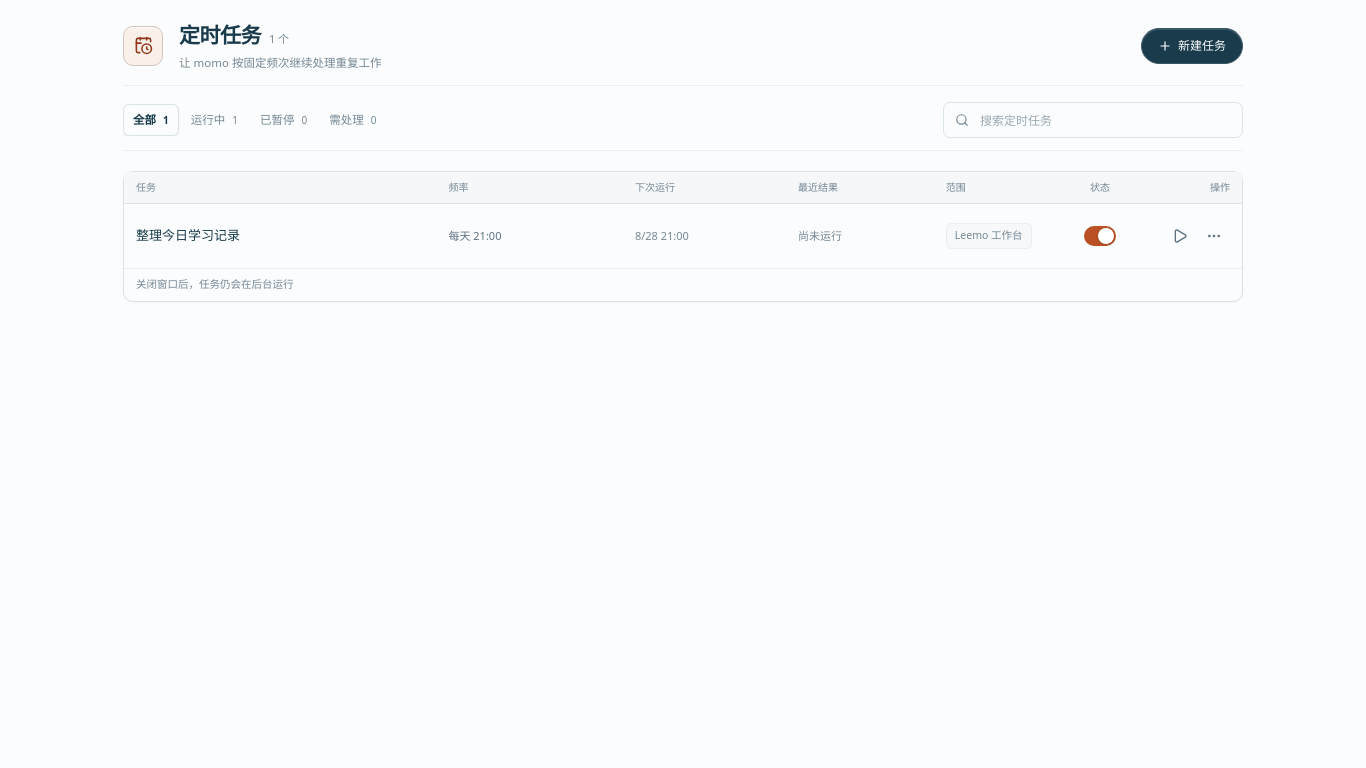
ScheduledTasksPage › keeps pause and edit on the same page instead of sending users to settings
Click the switch named "暂停 整理今日学习记录".
click(1100, 236)  # box [1084,226,1116,246]
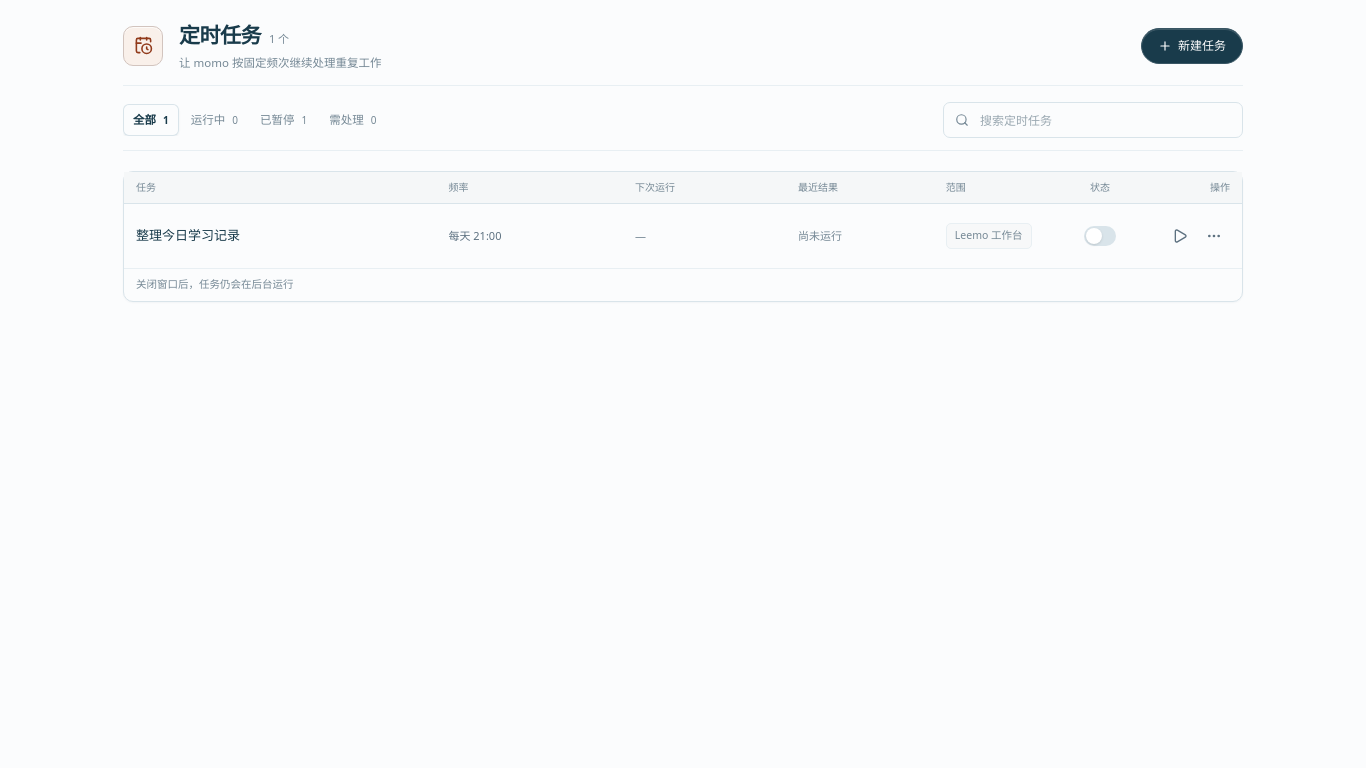
Now the switch named "继续 整理今日学习记录" is shown, box [1084,226,1116,246]
Now the tab "已暂停 1" is shown, box [250,104,317,136]
Click the button named "更多 整理今日学习记录 操作".
click(1214, 236)  # box [1198,220,1230,252]
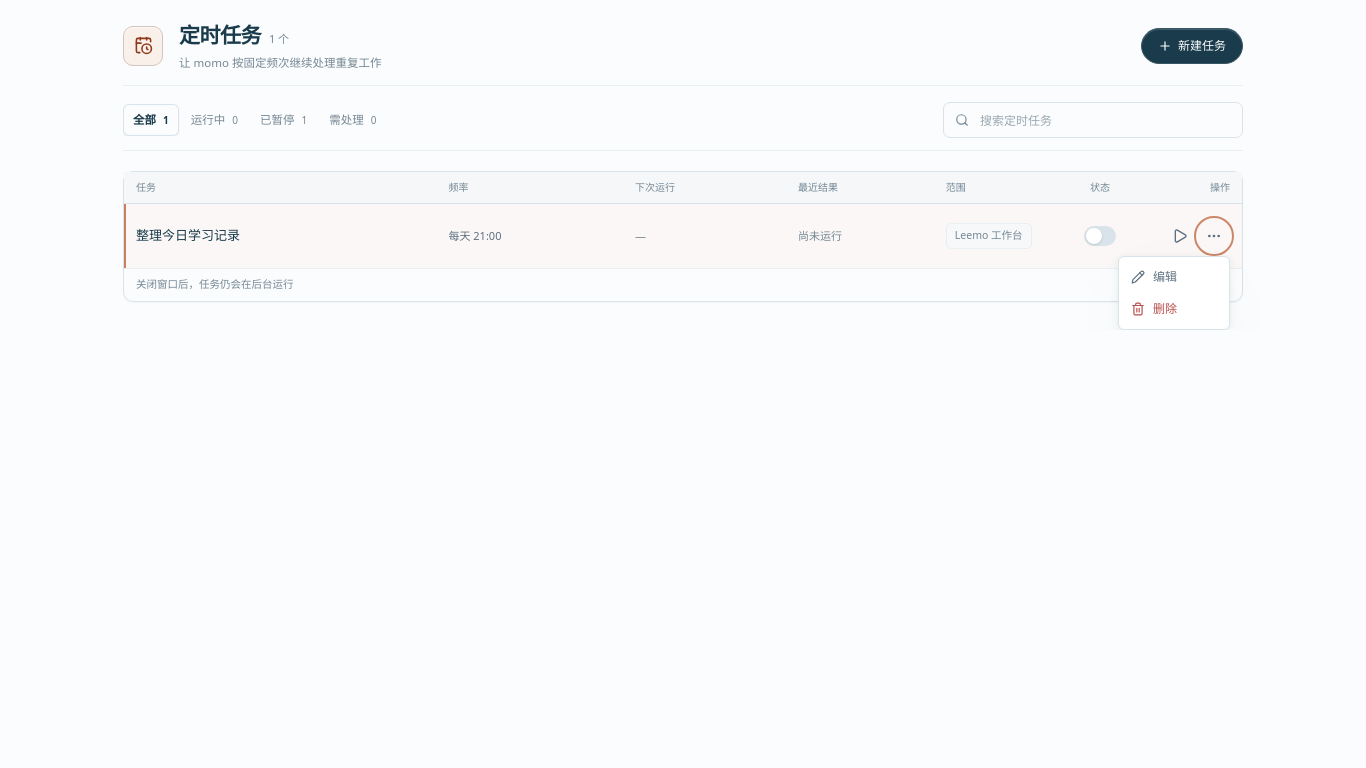
Click the button with aria-label "编辑 整理今日学习记录".
click(1174, 277)  # box [1123,261,1225,293]
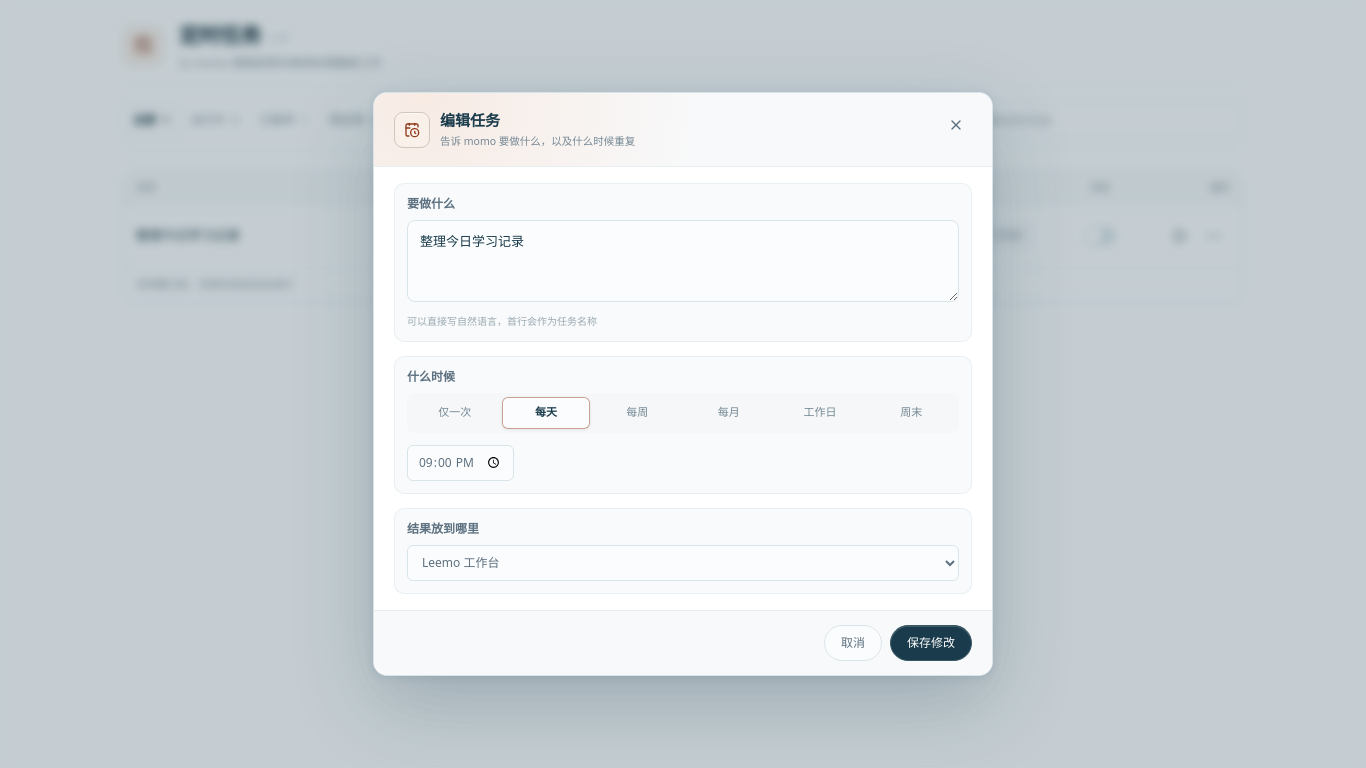
Expected: the button "保存修改" is enabled, [890,625,972,661]
Now the dialog "编辑任务" is shown, box [373,92,993,676]
Now the text box showing "整理今日学习记录" is shown, box [407,220,959,302]
